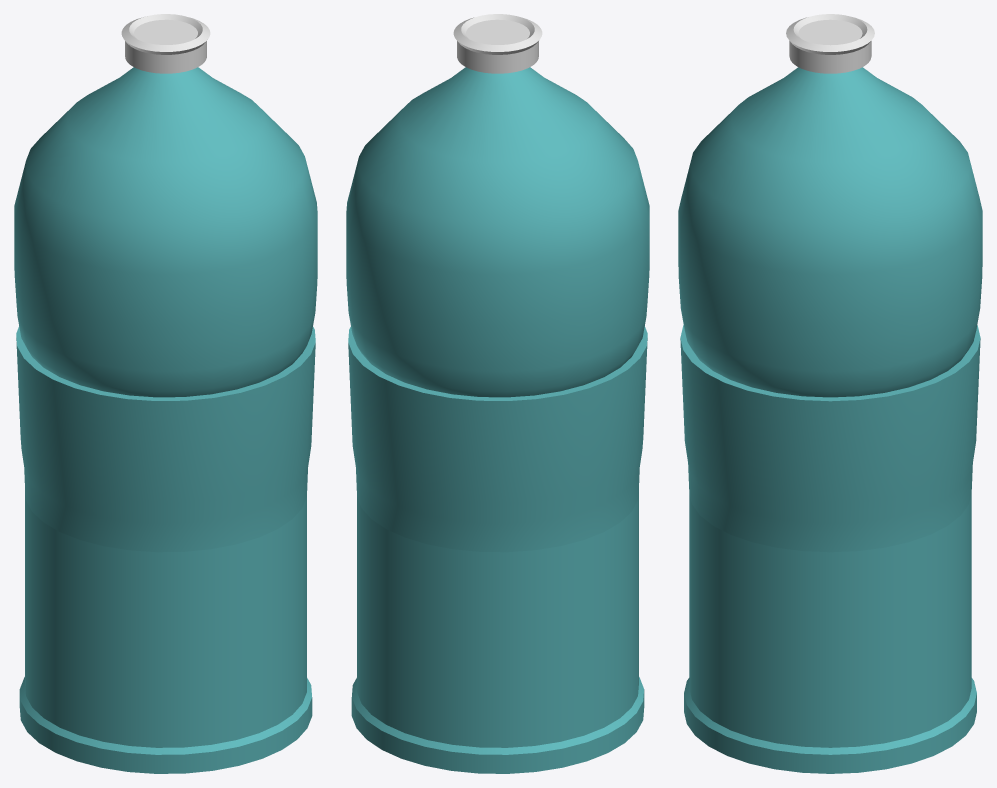
Rendered from bottle17.glb.
3 views of the same model, side by side, from view 1: azimuth 30°, elevation 25°; view 2: azimuth 150°, elevation 25°; view 3: azimuth 270°, elevation 25° (orthographic).
Visible parts, largest first — view 1: Bottle17; view 2: Bottle17; view 3: Bottle17.
Part boxes in pixels (x1,y1,x2,y2): Bottle17: (14,14,317,773); Bottle17: (346,14,649,773); Bottle17: (678,14,982,773).
Bounding box in the file's own units: 0.4568 × 1.13 × 0.4568.
